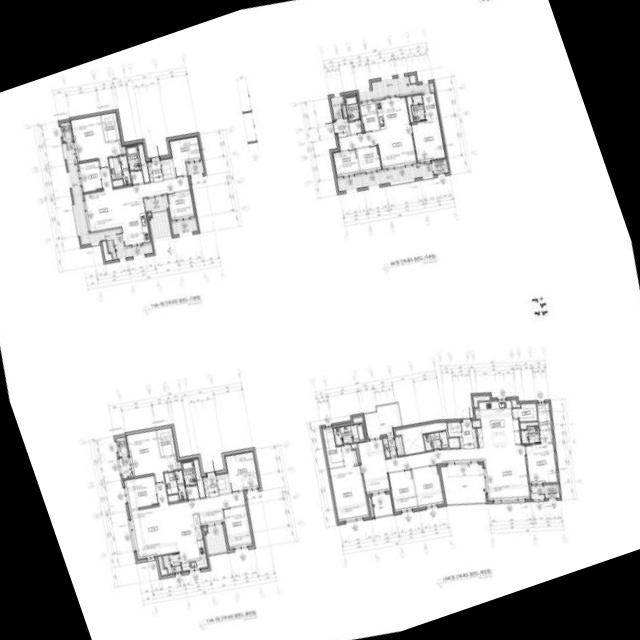background: (0, 0, 640, 640)
space_balconi: (63, 141, 152, 259), (337, 162, 433, 191), (440, 464, 486, 504), (358, 76, 434, 100), (364, 404, 401, 437), (204, 526, 227, 554), (149, 211, 171, 239), (371, 494, 393, 516), (383, 436, 404, 457), (171, 219, 197, 234), (162, 553, 181, 573), (146, 196, 166, 211), (331, 95, 343, 119), (119, 457, 131, 478), (187, 161, 204, 175), (530, 485, 544, 499)
space_bedroom: (330, 444, 369, 521), (126, 430, 178, 483), (71, 115, 122, 168), (411, 119, 445, 162), (225, 451, 259, 491), (222, 505, 253, 548), (412, 465, 443, 507), (525, 443, 557, 483), (169, 136, 201, 176), (389, 469, 418, 511), (124, 475, 158, 509), (167, 190, 195, 220), (78, 160, 102, 192), (333, 149, 360, 176), (357, 145, 381, 172)
space_dressroom: (322, 427, 343, 468), (537, 403, 552, 442), (156, 427, 176, 456), (101, 112, 120, 141), (422, 93, 438, 121)
space_front: (459, 421, 477, 448), (147, 158, 163, 182), (203, 475, 219, 497), (335, 118, 350, 137)
space_kitchen: (475, 400, 521, 446), (173, 514, 207, 571), (118, 199, 150, 245), (375, 96, 409, 130)
space_living_room: (357, 439, 530, 500), (129, 482, 246, 558), (82, 166, 190, 233), (338, 125, 416, 168)
space_other: (395, 422, 447, 454), (359, 101, 379, 132), (193, 459, 205, 497), (512, 403, 537, 421), (199, 508, 224, 525), (138, 144, 149, 182), (160, 157, 175, 178), (216, 473, 230, 494), (157, 556, 167, 576), (102, 241, 112, 261), (447, 422, 461, 436), (185, 485, 199, 499), (130, 170, 143, 185), (349, 120, 362, 134), (406, 96, 413, 122), (473, 396, 489, 407), (351, 443, 360, 462), (368, 497, 374, 517), (448, 438, 459, 448), (520, 423, 538, 429), (112, 179, 123, 187), (409, 74, 416, 83), (512, 400, 520, 407), (472, 420, 480, 427), (353, 417, 362, 423), (343, 105, 347, 117), (122, 145, 125, 153), (178, 461, 181, 469), (203, 527, 206, 531), (148, 213, 151, 216)
space_outdoor_room: (60, 121, 72, 141), (432, 159, 448, 174), (116, 437, 128, 456), (544, 484, 560, 498)
space_toilet: (333, 423, 365, 445), (164, 470, 186, 502), (108, 155, 131, 185), (423, 431, 448, 450), (181, 460, 196, 486), (411, 94, 425, 121), (126, 145, 141, 170), (345, 95, 360, 120), (521, 426, 540, 443)
